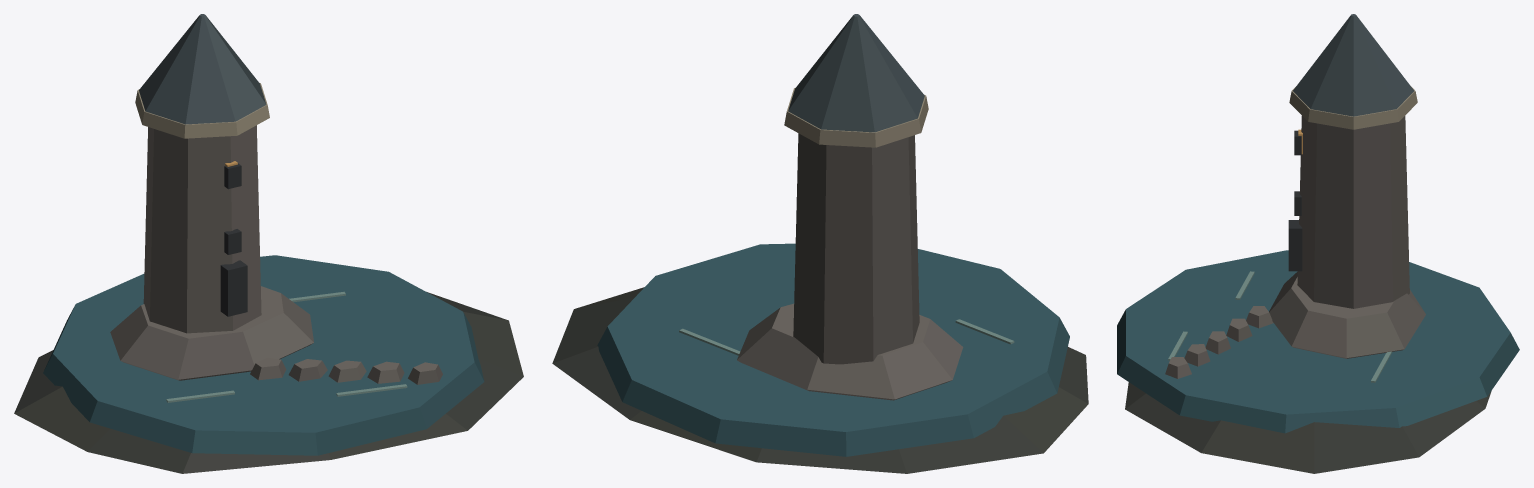
File: tower.glb
3 renders of one model, left to right at view 1: azimuth 30°, elevation 25°; view 2: azimuth 150°, elevation 25°; view 3: azimuth 270°, elevation 25°, orthographic. The views are drawn at different scales.
Parts seen in each view (by area): view 1: The Lonely Tower · atlas landmark; view 2: The Lonely Tower · atlas landmark; view 3: The Lonely Tower · atlas landmark.
Boxes of the visible parts, box(x1,y1,x2,y2) form: The Lonely Tower · atlas landmark: box(14, 14, 523, 473); The Lonely Tower · atlas landmark: box(552, 14, 1088, 473); The Lonely Tower · atlas landmark: box(1117, 14, 1519, 473).
Bounding box in the file's own units: 2.15 × 1.64 × 1.74.
